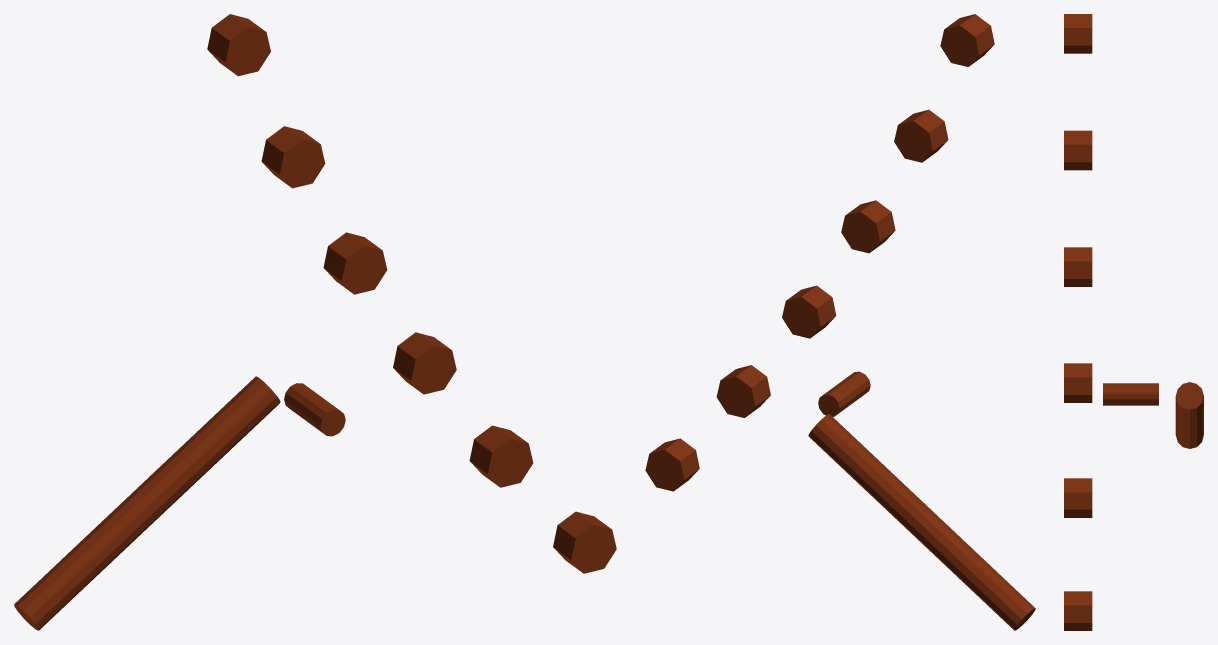
The model's file is fault_anchor_corrosion.glb.
3 views of the same model, side by side, from view 1: azimuth 30°, elevation 25°; view 2: azimuth 150°, elevation 25°; view 3: azimuth 270°, elevation 25° (orthographic). The views are drawn at different scales.
Parts seen in each view (by area): view 1: fault_anchor_corrosion; view 2: fault_anchor_corrosion; view 3: fault_anchor_corrosion.
Boxes of the visible parts, <box> form: fault_anchor_corrosion: <box>14,14,616,630</box>; fault_anchor_corrosion: <box>645,14,1035,630</box>; fault_anchor_corrosion: <box>1064,14,1203,630</box>.
Size of the model in its own units: 0.8187 by 0.952 by 0.249.
